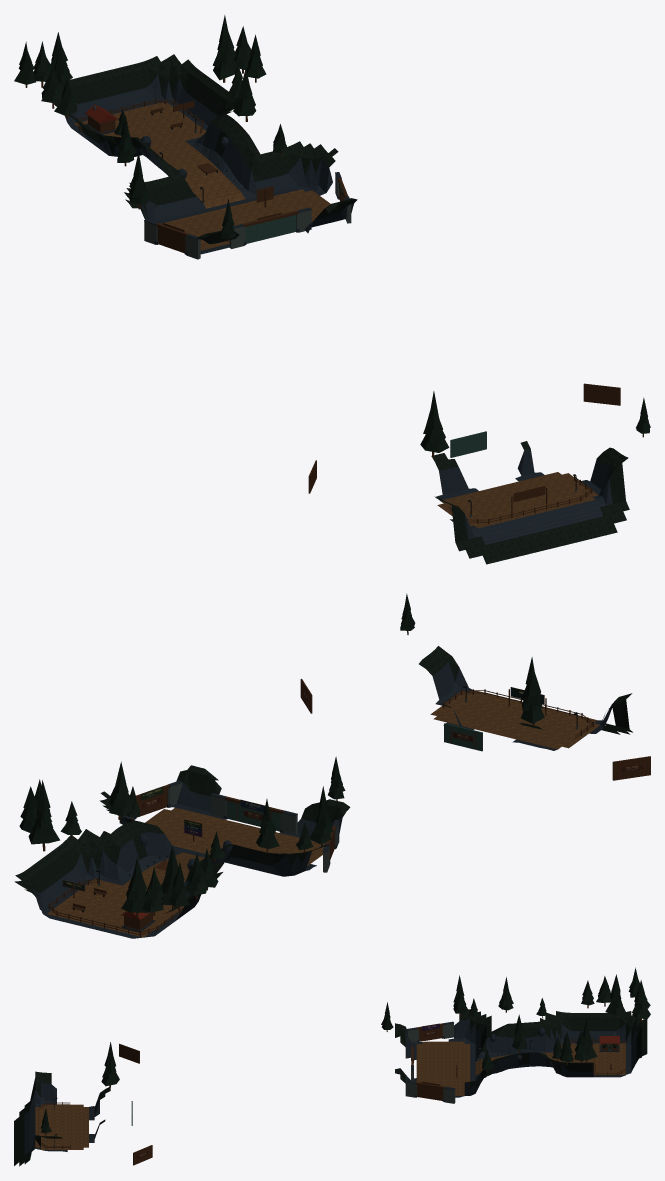
The model's file is Pohorje_Shared.fbx.
3 views of the same model, one above another, from view 1: azimuth 30°, elevation 25°; view 2: azimuth 150°, elevation 25°; view 3: azimuth 270°, elevation 25° (orthographic). The views are drawn at different scales.
Visible parts, largest first — view 1: PL_Shared_Ground_03_01, PL_Shared_Ground_03_05, PL_Shared_Ground_03_00, PL_Shared_Ground_04_01, PL_Shared_Ground_04_05, PL_Shared_Ground_03_02, PL_Shared_Ground_04_00, PL_Shared_Ground_04_04, PL_Shared_Ground_04_02, PL_Shared_Forest_19_20, PL_Shared_Forest_20_19, PL_Shared_Forest_21_19 (+7 smaller); view 2: PL_Shared_Ground_03_01, PL_Shared_Ground_03_02, PL_Shared_Ground_03_05, PL_Shared_Ground_03_00, PL_Shared_Ground_04_01, PL_Shared_Ground_04_05, PL_Shared_Ground_04_02, PL_Shared_Forest_20_19, PL_Shared_Forest_19_20, PL_Shared_GateFrames_20_22, PL_Shared_Forest_21_19, PL_Shared_Ground_04_00 (+12 smaller); view 3: PL_Shared_Ground_04_01, PL_Shared_Ground_04_05, PL_Shared_Ground_03_01, PL_Shared_Ground_04_02, PL_Shared_Ground_04_00, PL_Shared_Ground_03_05, PL_Shared_Ground_03_02, PL_Shared_Ground_03_00, PL_Shared_Forest_20_19, PL_Shared_Forest_18_20, PL_Shared_GateFrames_18_22, PL_Shared_Forest_19_21 (+9 smaller).
Part boxes in pixels (x1,y1,x2,y2): PL_Shared_Ground_03_01: (143,81,338,209); PL_Shared_Ground_03_05: (507,447,629,548); PL_Shared_Ground_03_00: (105,54,214,128); PL_Shared_Ground_04_01: (71,117,232,224); PL_Shared_Ground_04_05: (434,492,551,564); PL_Shared_Ground_03_02: (234,157,357,233); PL_Shared_Ground_04_00: (54,71,142,141); PL_Shared_Ground_04_04: (431,453,506,507); PL_Shared_Ground_04_02: (129,203,249,254); PL_Shared_Forest_19_20: (197,15,242,151); PL_Shared_Forest_20_19: (33,32,73,104); PL_Shared_Forest_21_19: (14,41,62,108); PL_Shared_Ground_03_01: (43,791,210,907); PL_Shared_Ground_03_02: (123,765,250,850); PL_Shared_Ground_03_05: (419,646,523,728); PL_Shared_Ground_03_00: (14,858,118,928); PL_Shared_Ground_04_01: (119,844,324,921); PL_Shared_Ground_04_05: (504,693,632,745); PL_Shared_Ground_04_02: (221,799,350,870); PL_Shared_Forest_20_19: (121,845,178,918); PL_Shared_Forest_19_20: (28,780,130,876); PL_Shared_GateFrames_20_22: (210,793,297,834); PL_Shared_Forest_21_19: (169,853,208,910); PL_Shared_Ground_04_00: (92,896,193,938); PL_Shared_Ground_04_01: (464,1009,593,1068); PL_Shared_Ground_04_05: (14,1071,78,1143); PL_Shared_Ground_03_01: (464,1052,593,1095); PL_Shared_Ground_04_02: (395,1013,464,1068); PL_Shared_Ground_04_00: (593,1011,647,1059); PL_Shared_Ground_03_05: (14,1127,78,1166); PL_Shared_Ground_03_02: (395,1068,464,1097); PL_Shared_Ground_03_00: (593,1038,647,1077); PL_Shared_Forest_20_19: (605,974,650,1022); PL_Shared_Forest_18_20: (560,1030,589,1065); PL_Shared_GateFrames_18_22: (405,1080,455,1103); PL_Shared_Forest_19_21: (482,1014,527,1071).
Size of the model in its own units: 98.05 by 63.71 by 237.
